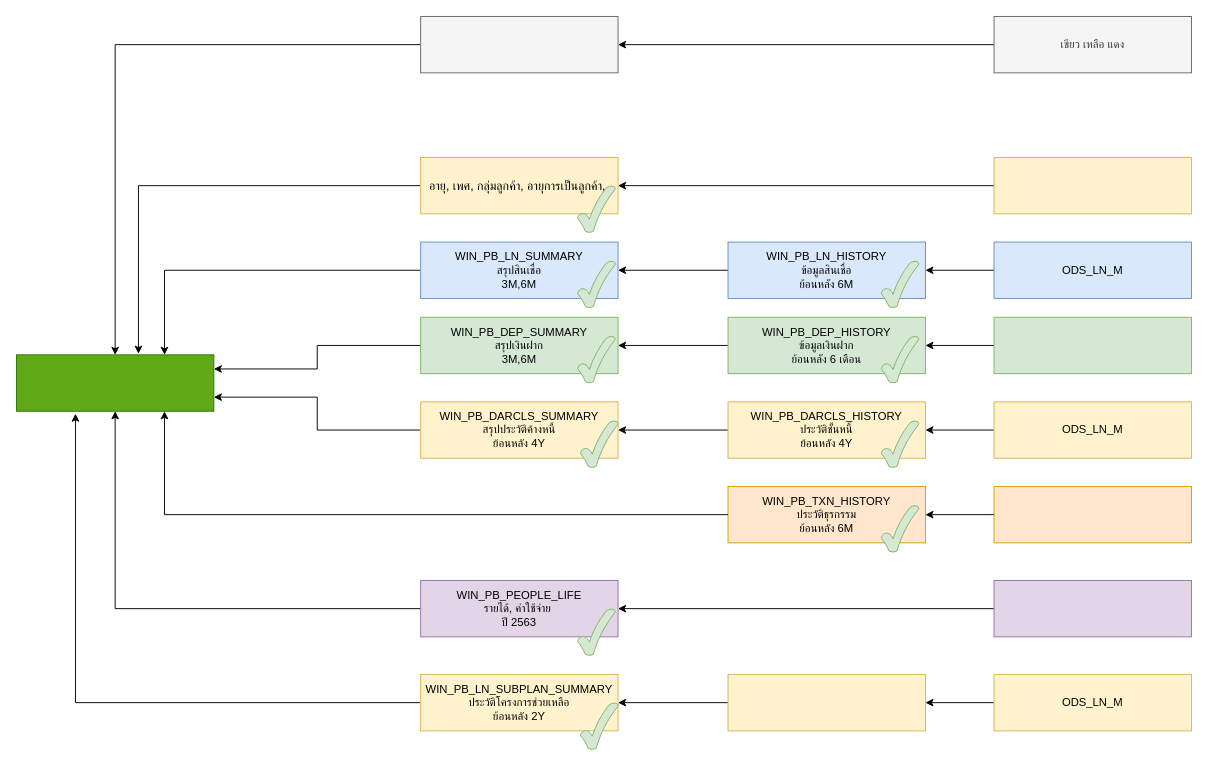
The diagram is 1208 pixels wide and 766 high, and some of its shapes have lost their labels. The shapes that lost their labels are listed below. From the top down, each one's centre as x and y in pixels, then its label:
At (519,44): "เป็นข้อมูลตั้งต้น cid, acn,type,brn,".
At (1092,185): "CIF".
At (1092,345): "ODS_DEP_M".
At (115,382): "WIN_PB_PREPARE_DATA ข้อมูลเตรียมเข้า Model".
At (1092,514): "DTJ".
At (1092,608): "จปฐ".
At (826,702): "WIN_PB_LN_SUBPLAN_HISTORY ประวัติโครงการช่วยเหลือ ย้อนหลัง 2Y".
